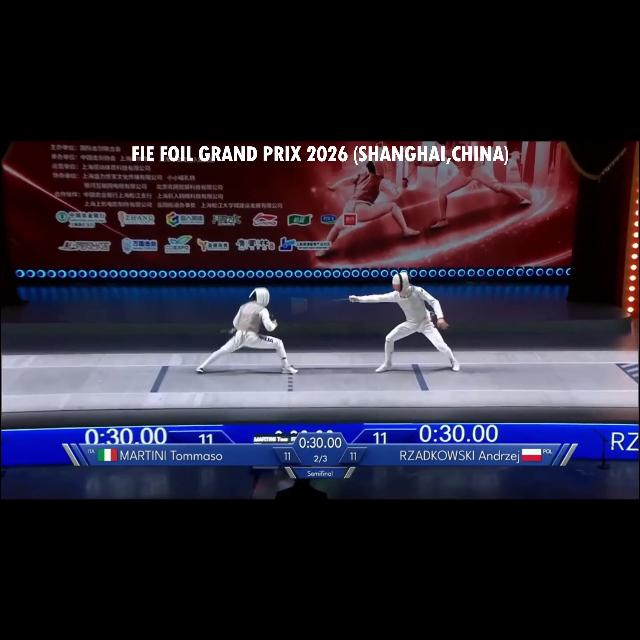blade: (289, 296, 357, 310)
